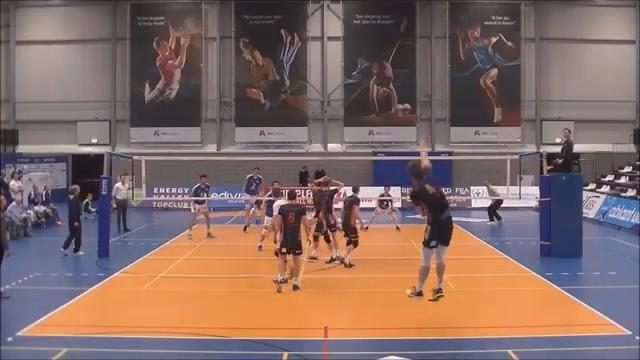Player: (274, 191, 309, 291), (307, 176, 343, 263), (256, 181, 280, 250), (187, 174, 212, 239), (342, 186, 361, 267), (364, 186, 399, 229), (243, 167, 263, 197), (253, 188, 268, 224)
Serve: (405, 122, 455, 303)
